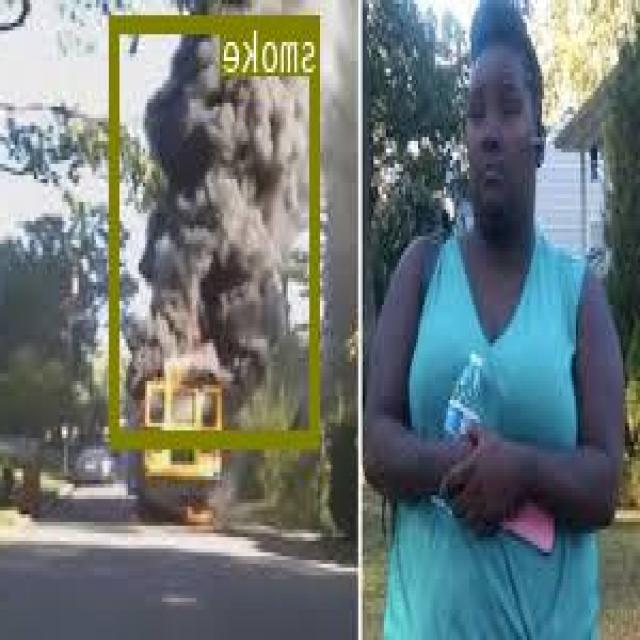smoke: (113, 15, 322, 445)
